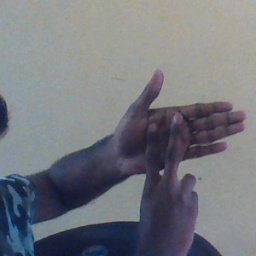N: (113, 61, 249, 226)
